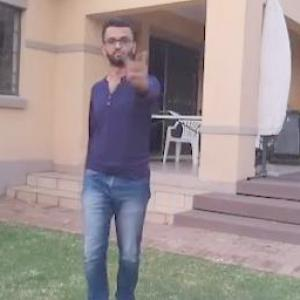takeoff-hand: (121, 39, 156, 91)
